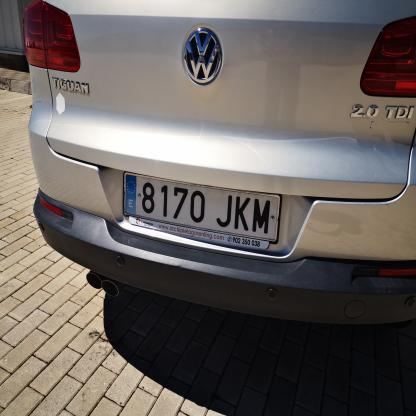patente: (124, 173, 281, 244)
